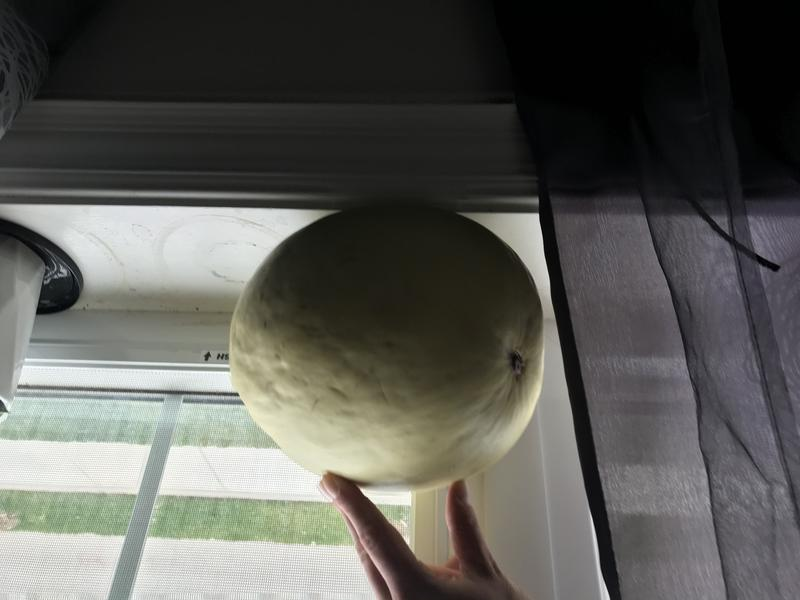honeydew: (218, 192, 554, 509)
